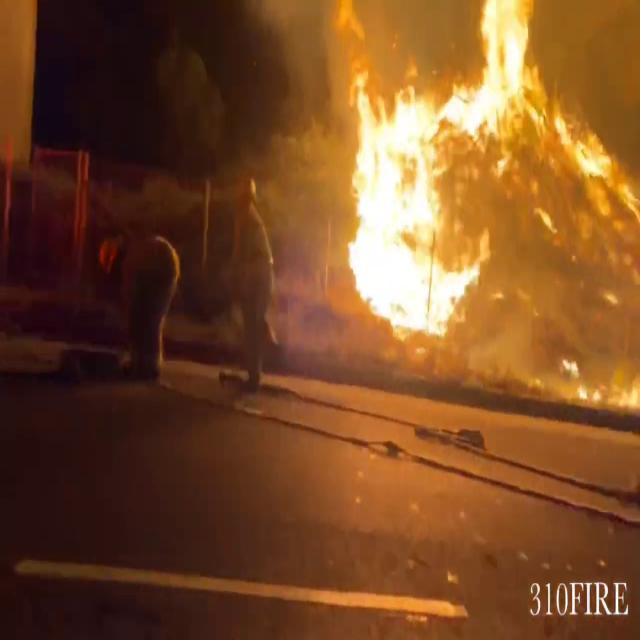Fire: (293, 1, 639, 370)
